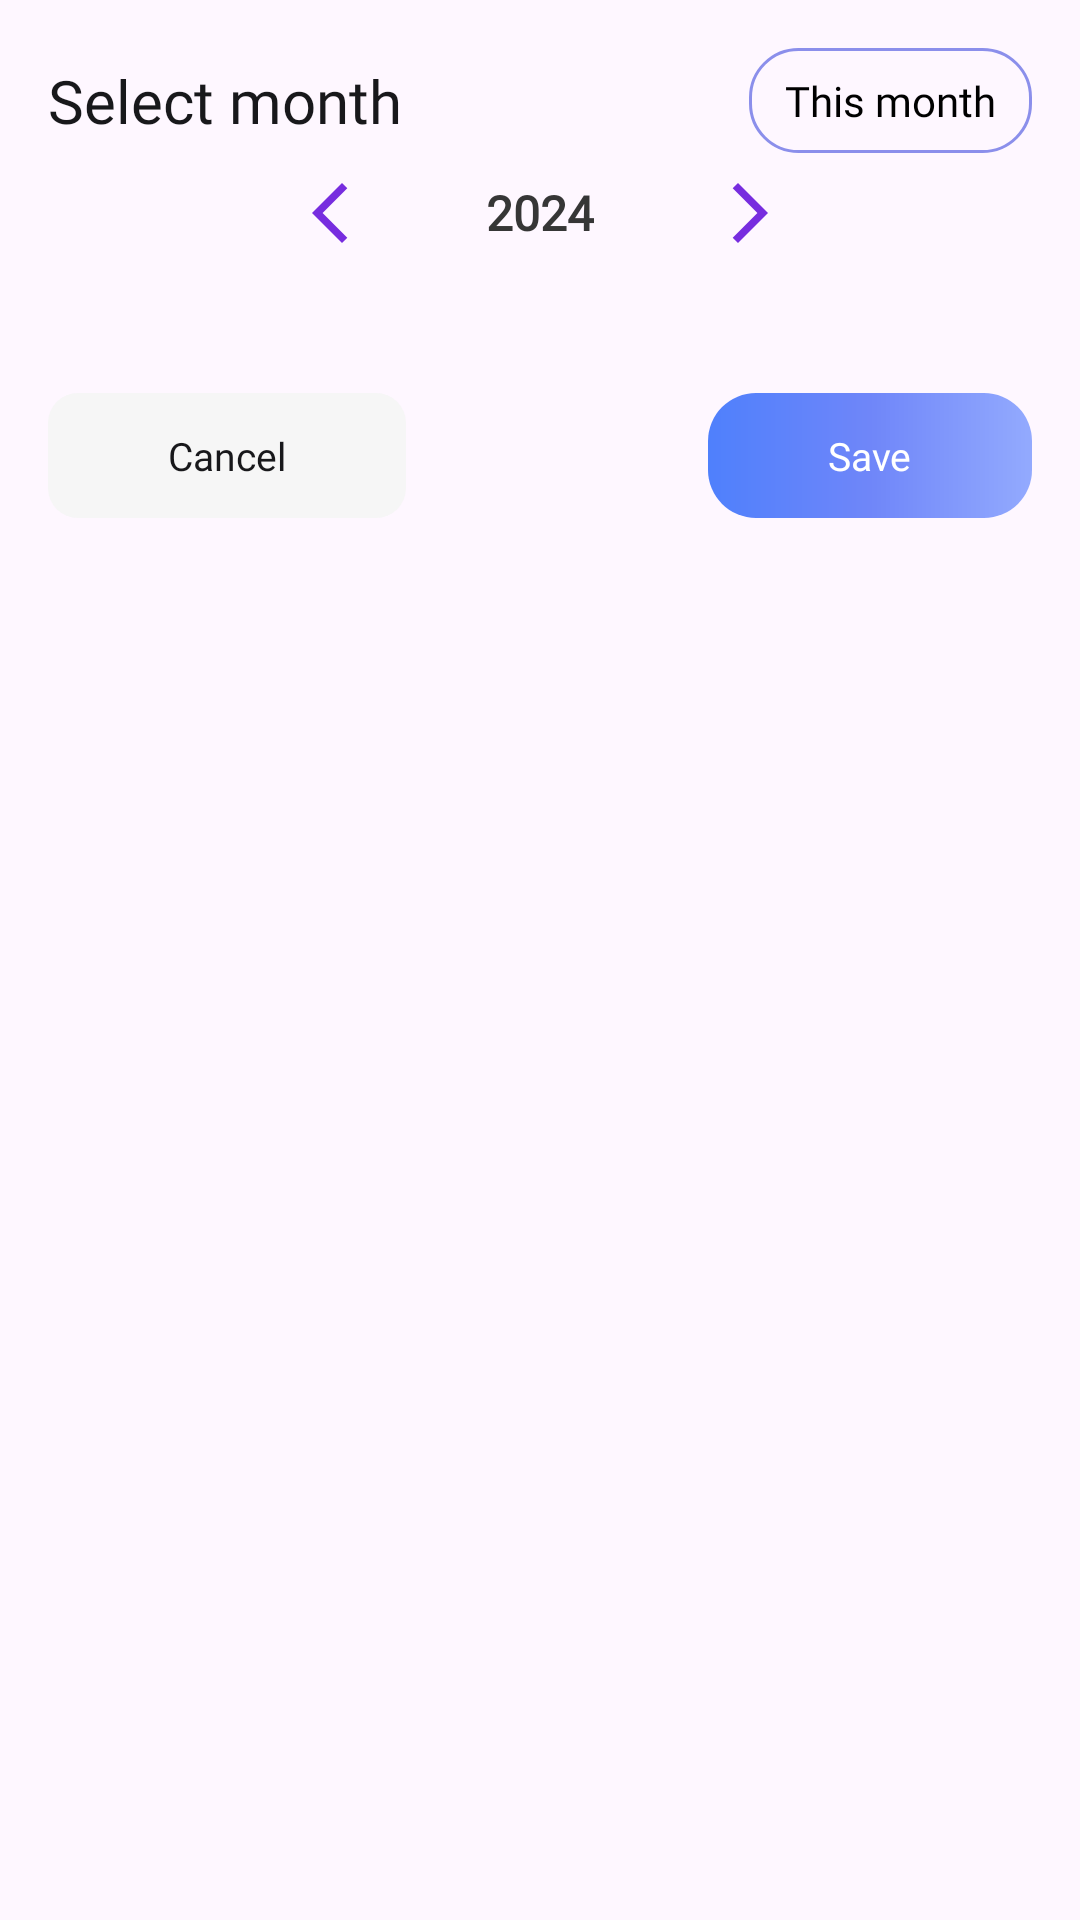

Screen size 1080×1920. Icon name, then its box in pixels as box=[x1, y1, x2, y2]:
back: box=[312, 183, 347, 243]
forward: box=[733, 183, 768, 243]
